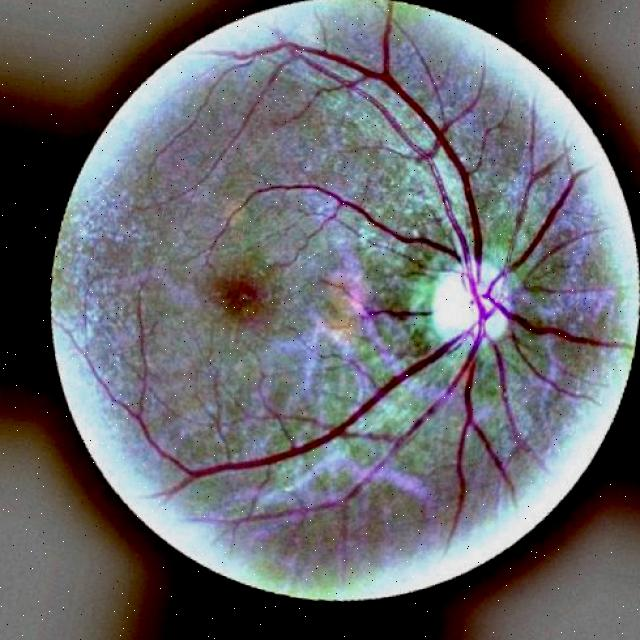Macula: (194, 261, 282, 335)
Nerves: (148, 301, 610, 578), (210, 41, 496, 273), (319, 275, 438, 330)
Optic Disk: (405, 249, 523, 362)
